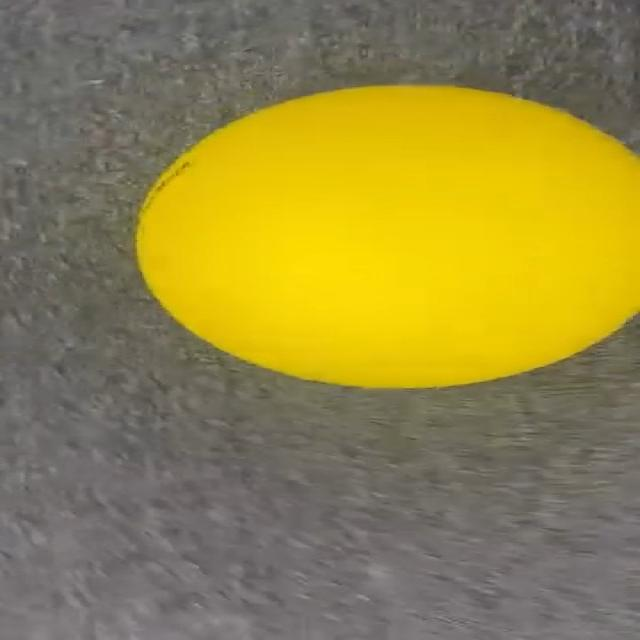Fuels: (139, 85, 636, 387)
